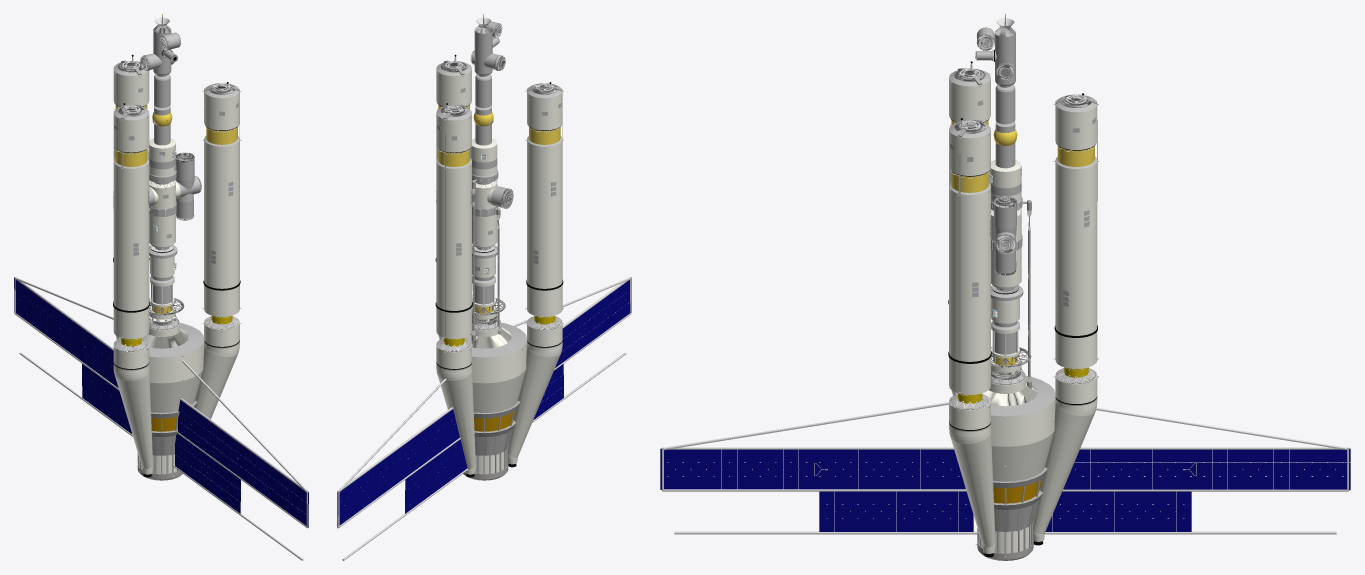
Rendered from hail-mary.glb.
3 renders of one model, left to right at view 1: azimuth 30°, elevation 25°; view 2: azimuth 150°, elevation 25°; view 3: azimuth 270°, elevation 25°, orthographic. The views are drawn at different scales.
Parts seen in each view (by area): view 1: Main Ship, Habitat; view 2: Main Ship, Habitat, Main Habitat Lines; view 3: Main Ship, Habitat.
Part boxes in pixels (x1,y1,x2,y2): Main Ship: (14,54,308,560); Habitat: (140,14,201,322); Main Ship: (337,54,631,560); Habitat: (470,14,513,322); Main Habitat Lines: (471,179,500,341); Main Ship: (660,61,1350,560); Habitat: (975,14,1031,376).
Size of the model in its own units: 31.33 by 112 by 130.
